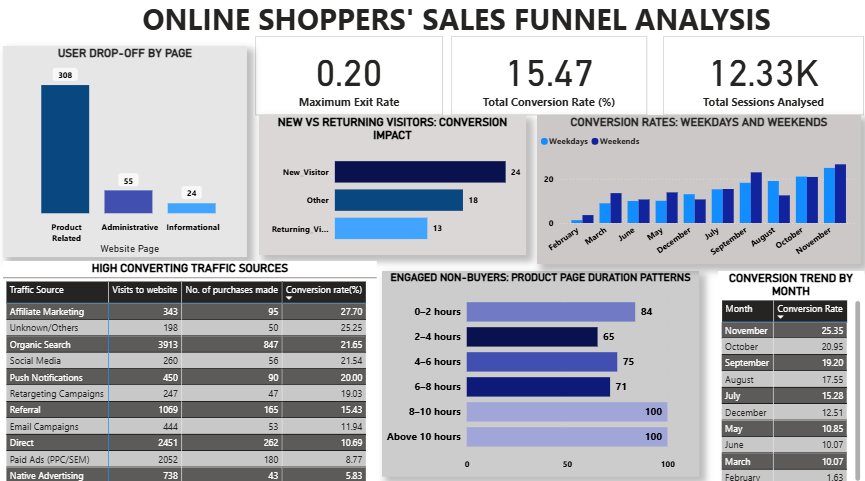

The dashboard page shown, as its layout file describes it:
{"tool":"powerbi","page":{"name":"Page 1","canvas":[1280,720],"ordinal":0},"visuals":[{"type":"textbox","box":[209.3,0,968.8,74.6],"z":0},{"type":"card","fields":{"Values":["CountNonNull(online_shoppers_intention1.S/N)"]},"box":[976.1,60,294.1,115.6],"z":1000},{"type":"card","fields":{"Values":["Duration vs Conversion 1 real.ConversionRate"]},"box":[665.9,60,286.8,115.6],"z":2000},{"type":"card","fields":{"Values":["Duration vs Conversion 1 real.MaxExitRate"]},"box":[379,60,275.1,115.6],"z":3000},{"type":"lineStackedColumnComboChart","title":"USER DROP-OFF BY PAGE","fields":{"Category":["Users Drop Off Stage 1.Stage(Page)"],"Y":["Sum(Users Drop Off Stage 1.Drop-Off Estimate)"],"Series":["Users Drop Off Stage 1.Average Bounce Rate"]},"box":[10.2,74.6,357.1,308.8],"z":4000},{"type":"clusteredBarChart","title":"NEW VS RETURNING VISITORS: CONVERSION IMPACT","fields":{"Category":["Visitor Types 2.Visitor Type"],"Y":["Sum(Visitor Types 2.Conversion Rate Percentage)"]},"box":[384.9,175.6,390.7,204.9],"z":5000},{"type":"pivotTable","title":"HIGH CONVERTING TRAFFIC SOURCES","fields":{"Rows":["Most Valuable Traffic Source.Traffic Source"],"Values":["Sum(Most Valuable Traffic Source.total_visits)","Sum(Most Valuable Traffic Source.purchases_made)","Sum(Most Valuable Traffic Source.conversion_rate_percent)"]},"box":[10.2,389.3,547.3,330.7],"z":6000},{"type":"clusteredBarChart","title":"ENGAGED NON-BUYERS: PRODUCT PAGE DURATION PATTERNS","fields":{"Category":["Duration vs Conversion 2 real.time_bracket"],"Y":["Sum(Duration vs Conversion 2 real.non_conversion_rate_percent)"]},"box":[564.9,403.9,463.9,301.5],"z":7000},{"type":"clusteredColumnChart","title":"CONVERSION RATES: WEEKDAYS AND WEEKENDS","fields":{"Y":["Sum(Time vs Purchace Behaviour 5.weekday_conversion_rate)","Sum(Time vs Purchace Behaviour 5.weekend_conversion_rate)"],"Category":["Time vs Purchace Behaviour 5.month_name"]},"box":[791.7,175.6,474.1,218],"z":8000},{"type":"tableEx","title":"CONVERSION TREND BY MONTH","fields":{"Values":["Time vs Purchace Behaviour 5.month_name","Sum(Time vs Purchace Behaviour 5.conversion_rate_percent)"]},"box":[1056.6,403.9,213.7,316.1],"z":9000}]}

Visuals, with their boxes in screenshot pixels (x1, y1, x2, y2), scaled from the page's 1280x720 canvas onto the 865x481 screenshot:
textbox: [left=141, top=0, right=796, bottom=50]
card - CountNonNull(online_shoppers_intention1.S/N): [left=660, top=40, right=858, bottom=117]
card - Duration vs Conversion 1 real.ConversionRate: [left=450, top=40, right=644, bottom=117]
card - Duration vs Conversion 1 real.MaxExitRate: [left=256, top=40, right=442, bottom=117]
"USER DROP-OFF BY PAGE" lineStackedColumnComboChart: [left=7, top=50, right=248, bottom=256]
"NEW VS RETURNING VISITORS: CONVERSION IMPACT" clusteredBarChart: [left=260, top=117, right=524, bottom=254]
"HIGH CONVERTING TRAFFIC SOURCES" pivotTable: [left=7, top=260, right=377, bottom=480]
"ENGAGED NON-BUYERS: PRODUCT PAGE DURATION PATTERNS" clusteredBarChart: [left=382, top=270, right=695, bottom=471]
"CONVERSION RATES: WEEKDAYS AND WEEKENDS" clusteredColumnChart: [left=535, top=117, right=855, bottom=263]
"CONVERSION TREND BY MONTH" tableEx: [left=714, top=270, right=858, bottom=480]
